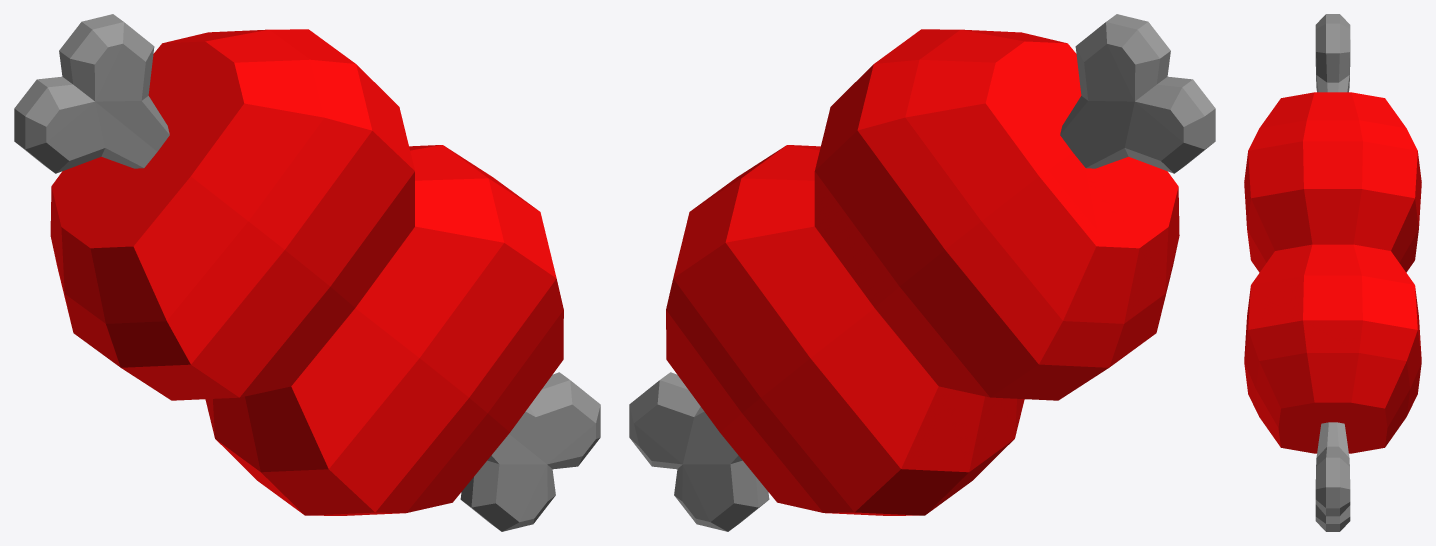
Rendered from SM_RoastOnABone_v2.fbx.
3 renders of one model, left to right at view 1: azimuth 30°, elevation 25°; view 2: azimuth 150°, elevation 25°; view 3: azimuth 270°, elevation 25°, orthographic. The views are drawn at different scales.
Parts seen in each view (by area): view 1: Meat; view 2: Meat; view 3: Meat.
Part boxes in pixels (bbox=[...]): Meat: bbox=[14, 14, 600, 531]; Meat: bbox=[629, 14, 1215, 531]; Meat: bbox=[1244, 14, 1421, 531].
Bounding box in the file's own units: 0.4473 × 0.4473 × 0.1888.
